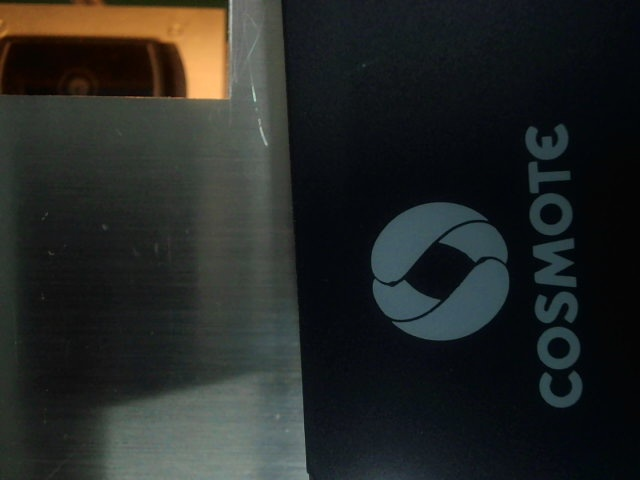AU_COSMOTE: (349, 101, 598, 405)
